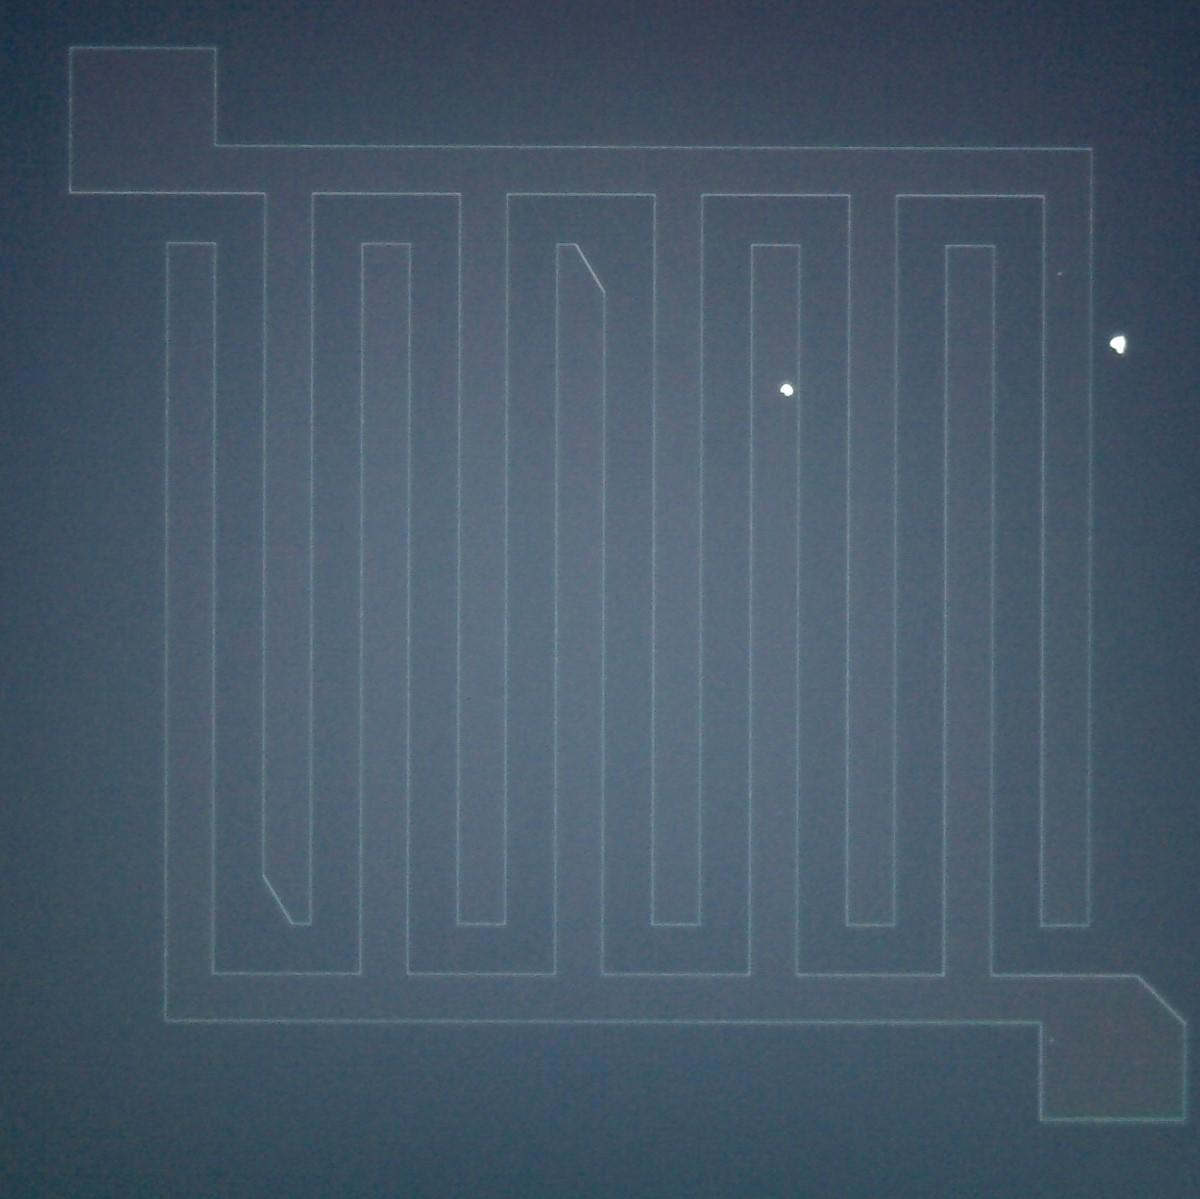B_point: (1100, 327, 1142, 368), (772, 373, 801, 406)
cut: (237, 853, 334, 942), (534, 226, 629, 309), (1124, 955, 1199, 1039)
s_point: (1035, 1023, 1067, 1055), (1048, 258, 1074, 287)
